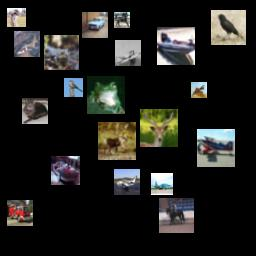airplane: (197, 129, 235, 167), (14, 31, 40, 57), (115, 40, 141, 66), (114, 169, 140, 195), (151, 173, 173, 195)
automobile: (51, 156, 80, 185), (82, 12, 108, 38)
bird: (211, 10, 246, 45), (7, 8, 26, 27), (64, 78, 83, 97), (191, 82, 207, 98)
cat: (22, 98, 48, 124)
deer: (140, 109, 178, 147), (98, 122, 136, 160)
frog: (87, 76, 125, 114), (44, 35, 79, 70)
ship: (157, 27, 195, 65)
truck: (7, 200, 33, 226)
